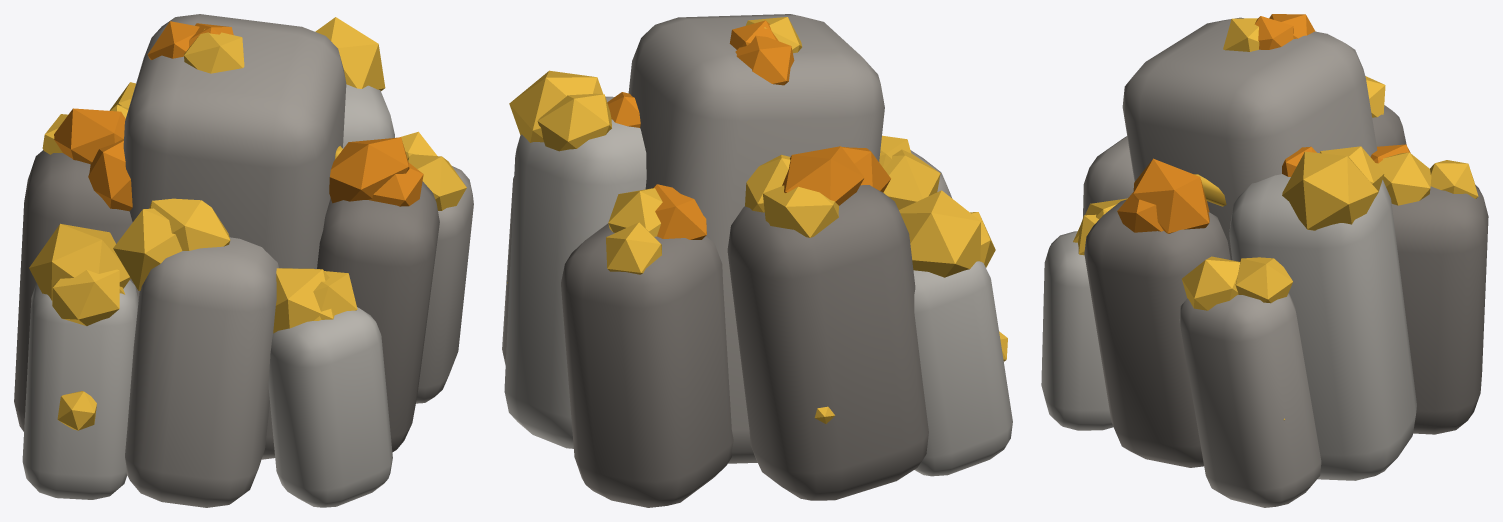
File: GoldDeposit.glb
The picture shows the model from 3 angles, left to right: view 1: azimuth 30°, elevation 25°; view 2: azimuth 150°, elevation 25°; view 3: azimuth 270°, elevation 25°; orthographic projection. The views are drawn at different scales.
Parts seen in each view (by area): view 1: GoldDeposit; view 2: GoldDeposit; view 3: GoldDeposit.
Part boxes in pixels (x1=…): GoldDeposit: x1=14, y1=14, x2=473, y2=507; GoldDeposit: x1=502, y1=14, x2=1012, y2=507; GoldDeposit: x1=1041, y1=14, x2=1488, y2=507.
Size of the model in its own units: 3.14 by 2.72 by 2.77.
